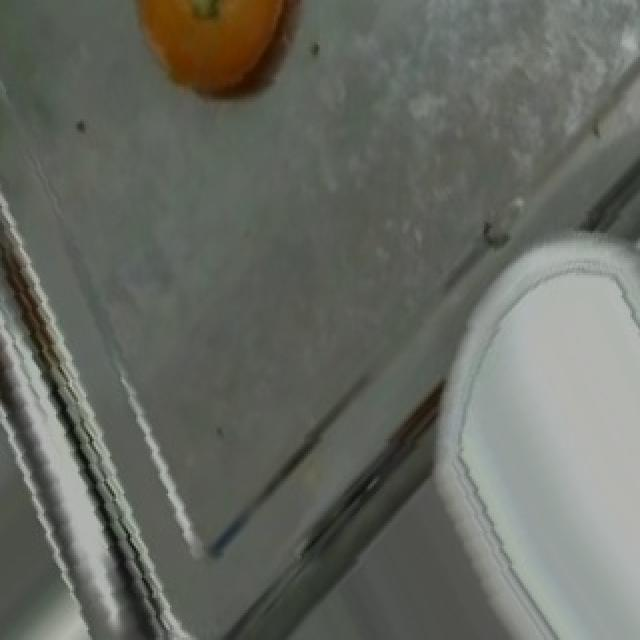Fruit: (104, 0, 314, 127)
